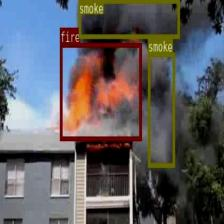fire: (60, 42, 141, 140)
smoke: (78, 0, 179, 38), (148, 52, 174, 166)
